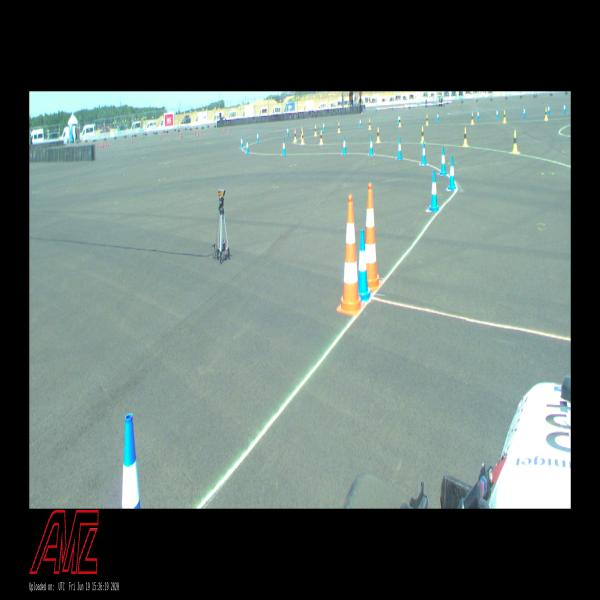blue_cone: (122, 414, 140, 508), (358, 230, 372, 302), (429, 170, 440, 212), (448, 156, 456, 190), (440, 147, 446, 175), (421, 141, 426, 165), (397, 138, 402, 159), (369, 136, 374, 156), (282, 139, 286, 155), (343, 136, 346, 155), (246, 139, 249, 154), (523, 107, 526, 118), (563, 102, 566, 113), (547, 104, 550, 114), (241, 136, 243, 149), (257, 131, 259, 142), (496, 108, 498, 119), (287, 126, 289, 136), (323, 121, 325, 131), (477, 110, 479, 120), (360, 118, 362, 127), (437, 112, 439, 121), (398, 114, 399, 124)
large_orange_cone: (336, 194, 364, 316), (365, 183, 383, 292)
yellow_cone: (512, 130, 518, 154), (463, 127, 468, 147), (421, 126, 425, 143), (377, 127, 380, 143), (320, 131, 323, 144), (301, 131, 304, 144), (471, 112, 474, 125), (545, 108, 548, 120), (294, 129, 296, 143), (300, 127, 302, 139), (369, 118, 371, 130), (399, 116, 401, 127), (426, 114, 428, 125), (504, 111, 506, 122), (315, 126, 317, 136), (338, 122, 340, 132)
